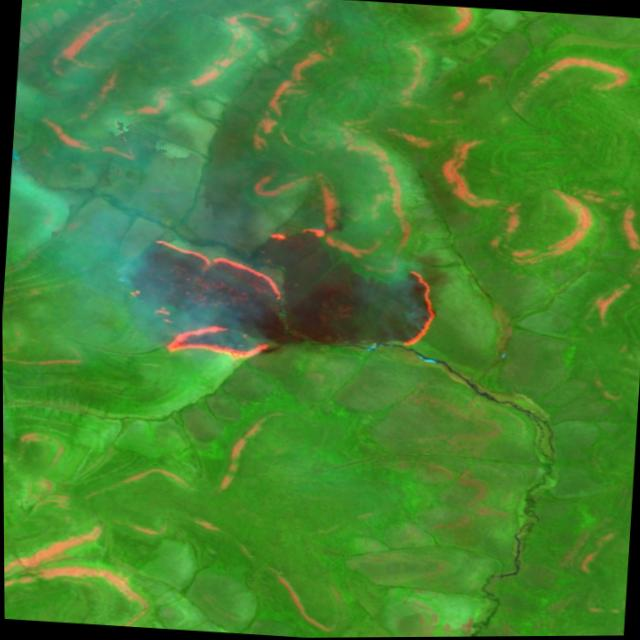fire: (131, 213, 445, 375)
